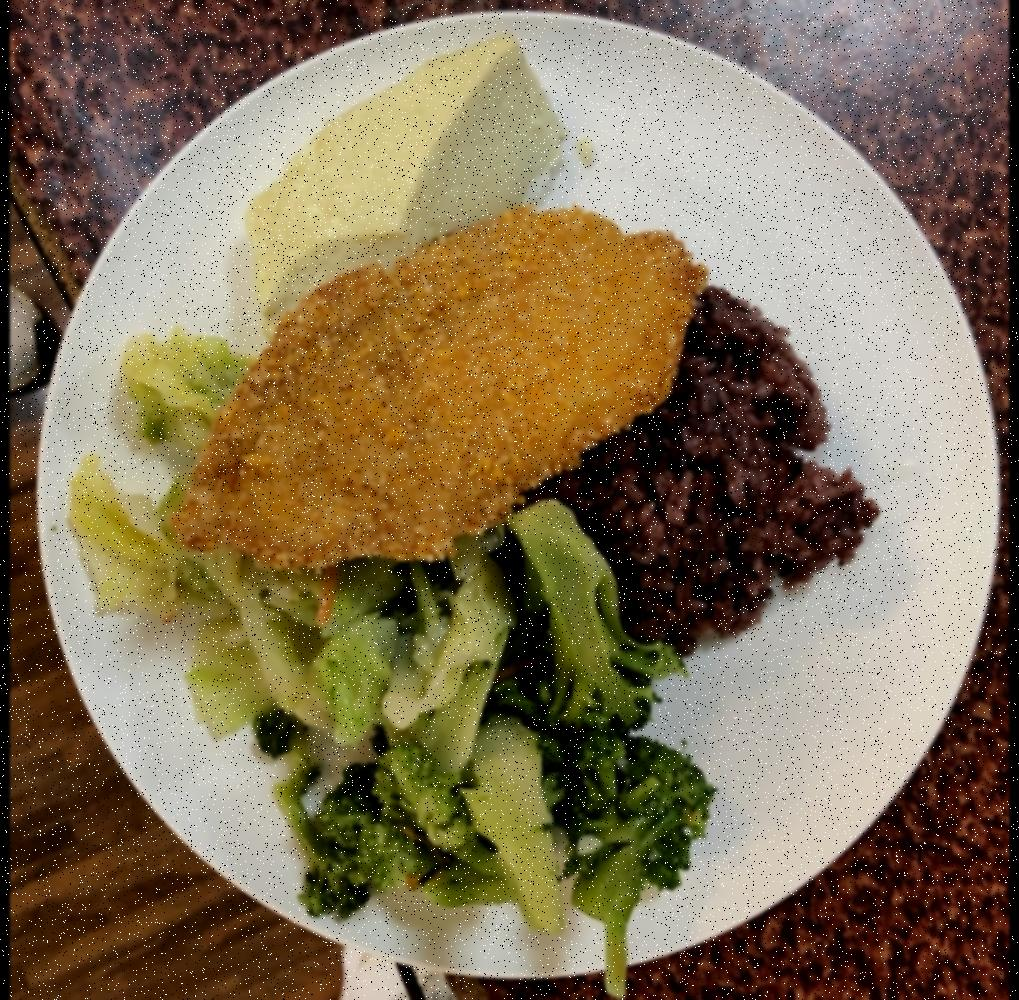big fried chicken leg: (32, 4, 991, 1000)
braised fish: (525, 273, 891, 671)
braised fish fillet: (314, 502, 703, 998), (69, 311, 381, 761), (239, 25, 585, 327)
braised pork: (160, 201, 704, 588)
